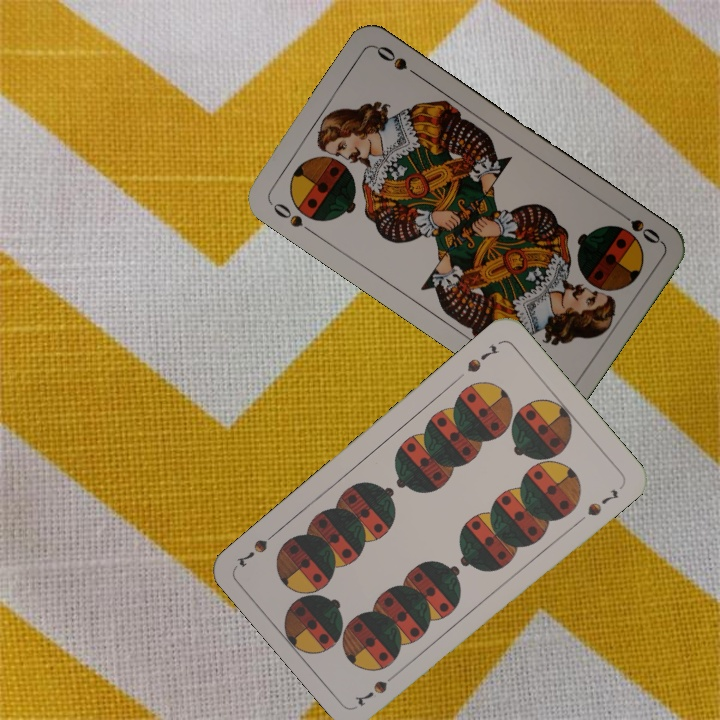S7: (351, 668, 403, 709), (463, 340, 503, 375)
SO: (613, 205, 664, 247), (266, 198, 318, 238)
